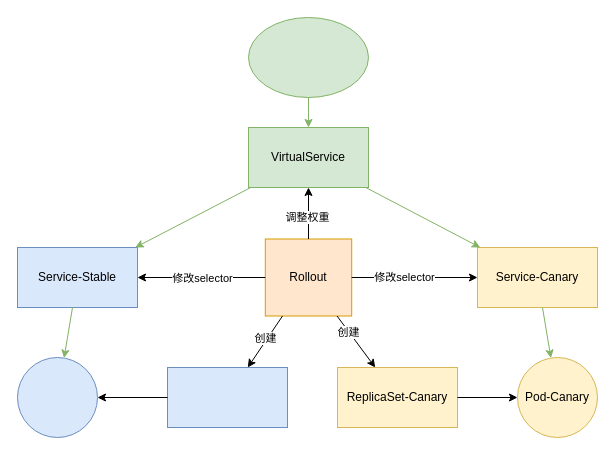
This 615x455 diagram has some shape labels left out. The centre of each missing label's shape, as x and y in pixels:
gateway: the point at 308,57
Pod-Stable: the point at 57,397
ReplicaSet-Stable: the point at 227,397
